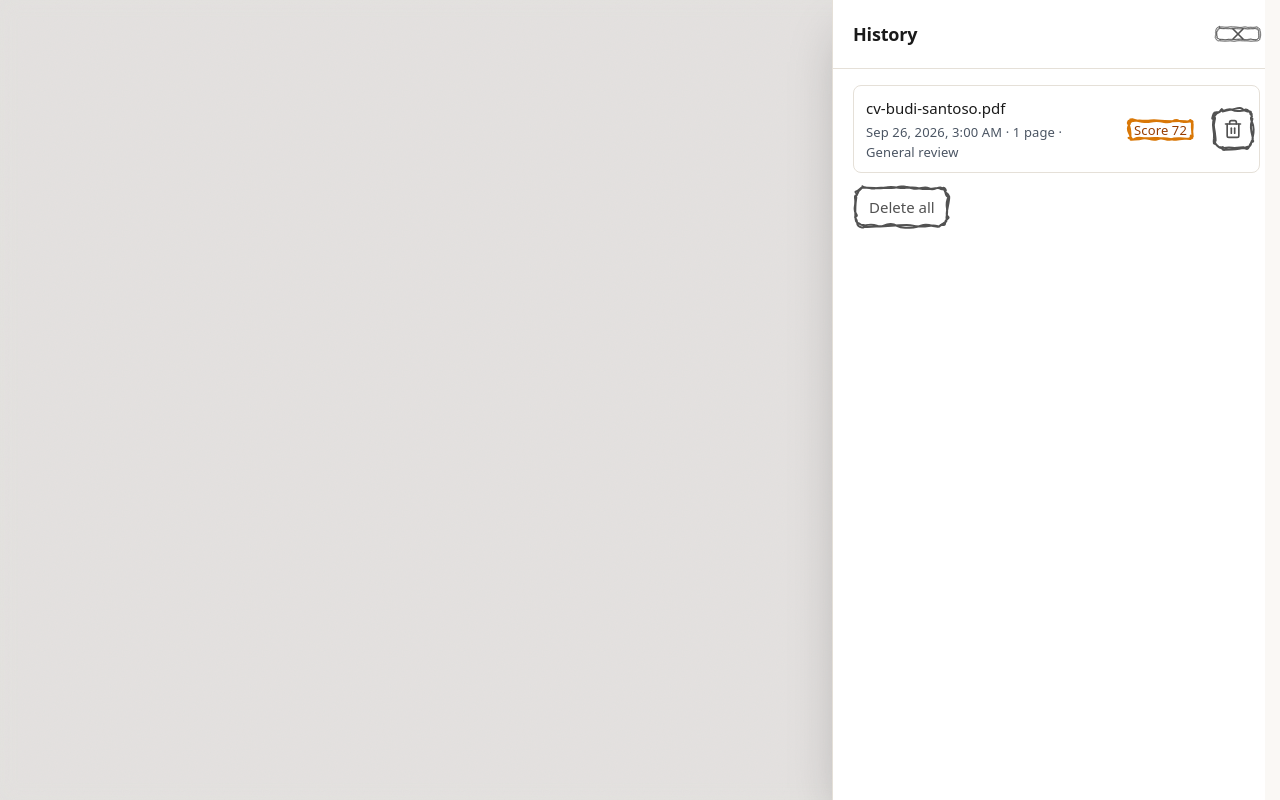
it: HistoryDrawer (FEAT-09) › deletes a CV only after confirmation, with the safe choice focused
This screenshot has width=1280, height=800.
What coordinates should you click on to do the following:
click the button named "Delete: cv-budi-santoso.pdf"
I would click on:
 (1233, 129)
Its box is left=1211, top=107, right=1255, bottom=151.
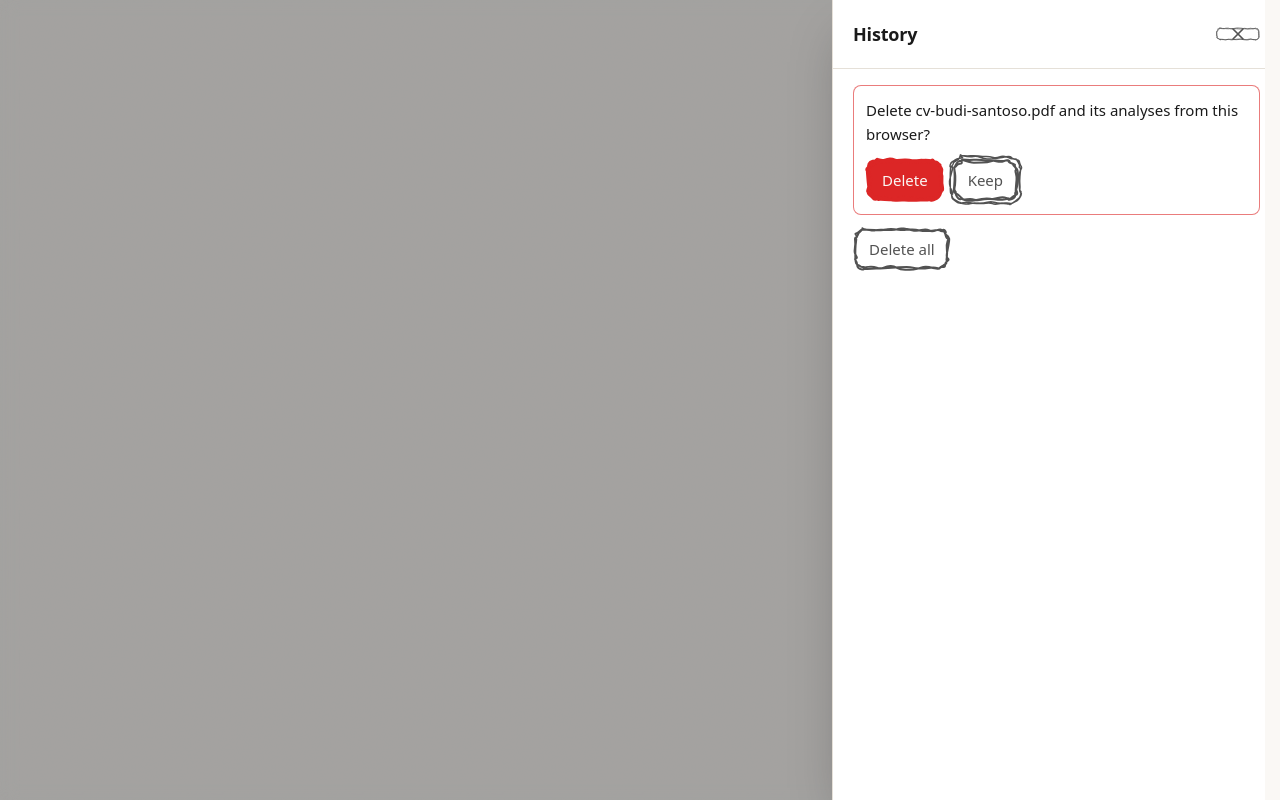
Now the text "Delete cv-budi-santoso.pdf and its analyses from this browser?" is shown, box left=866, top=98, right=1247, bottom=146
What coordinates should you click on to do the following:
click the button "Delete"
I would click on:
 (905, 180)
Its box is left=866, top=158, right=944, bottom=202.
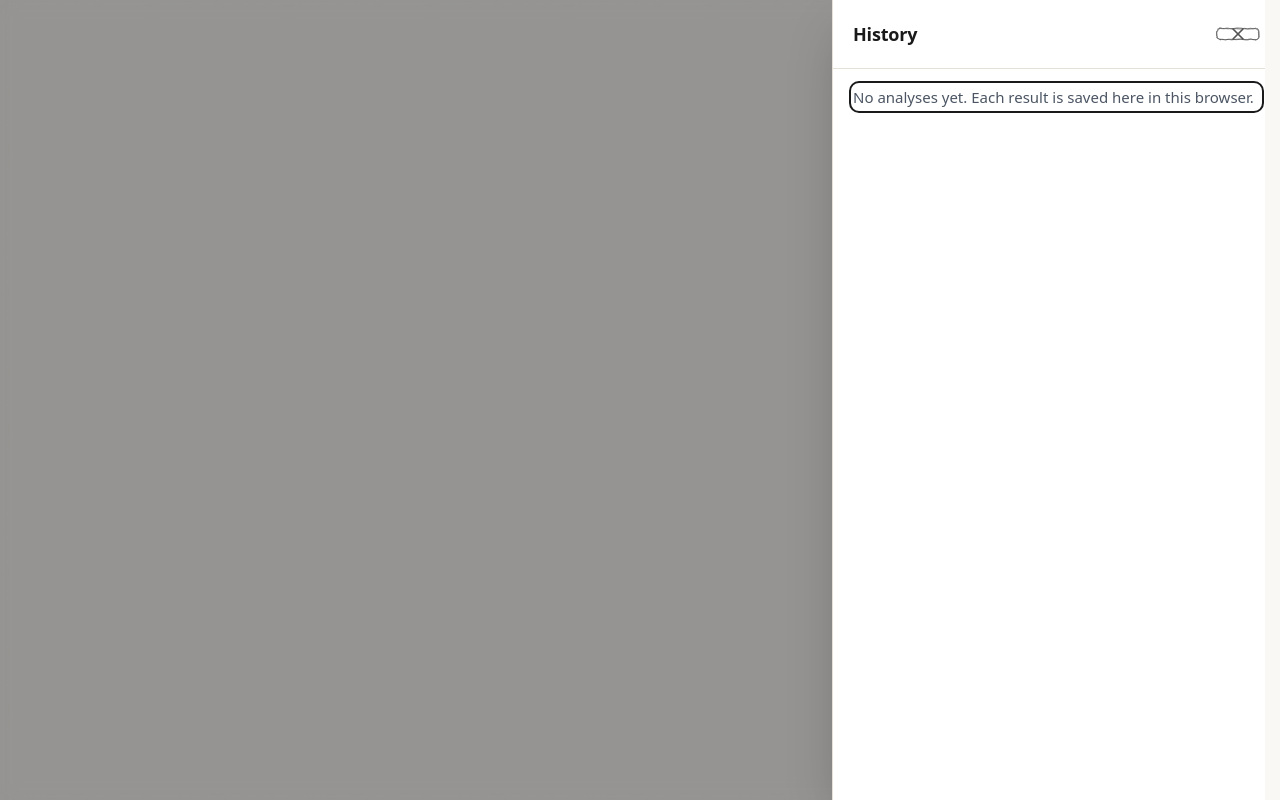
Now the text "No analyses yet. Each result is saved here in this browser." is shown, box left=853, top=85, right=1260, bottom=109
